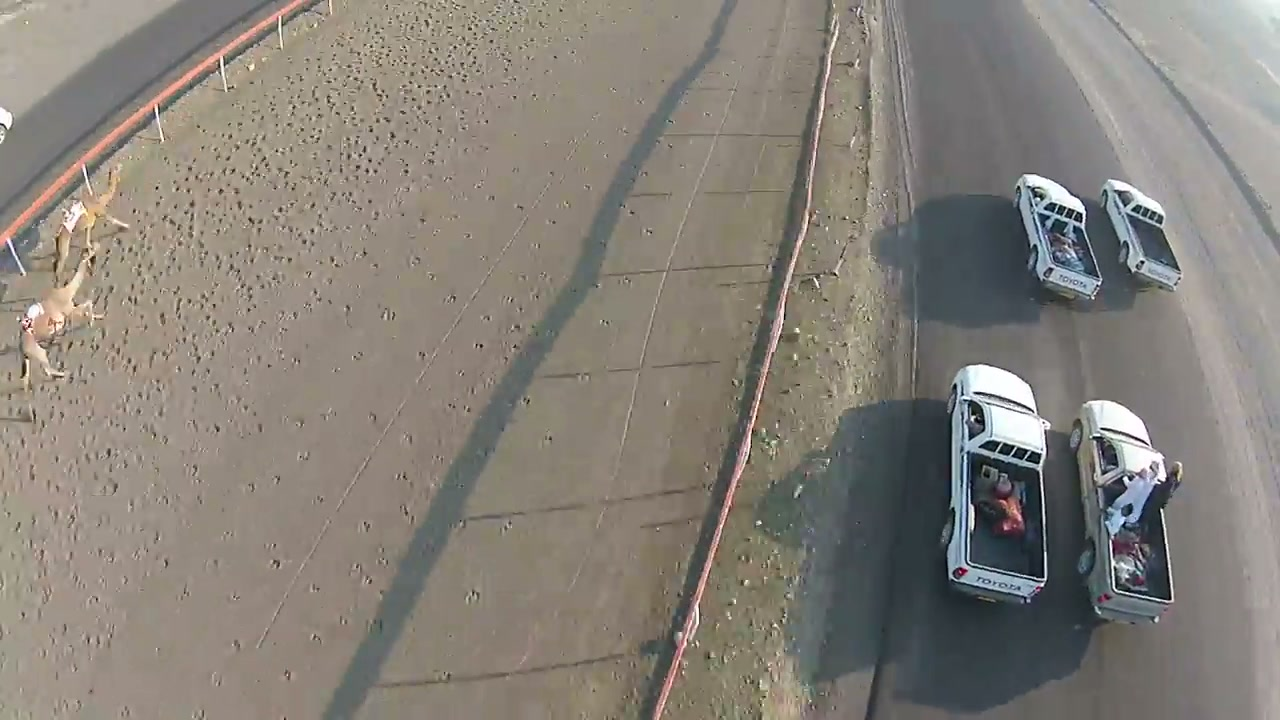animal_footprint: (8, 2, 517, 622)
